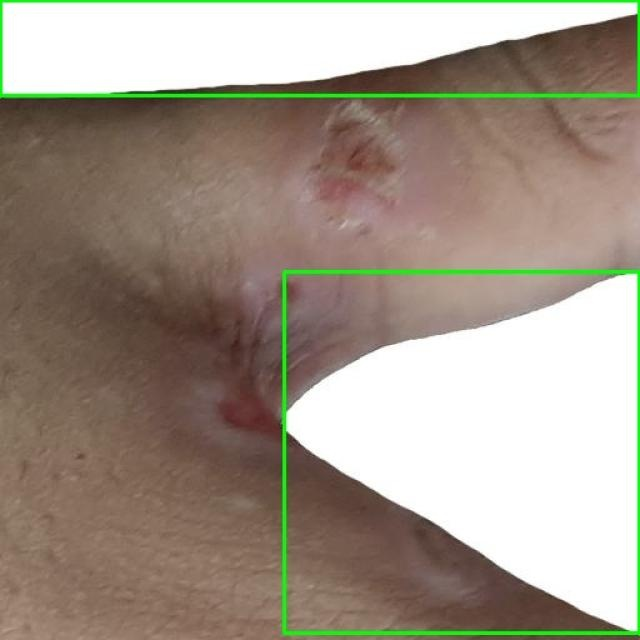Scabies: (284, 271, 639, 632), (0, 0, 639, 95)
